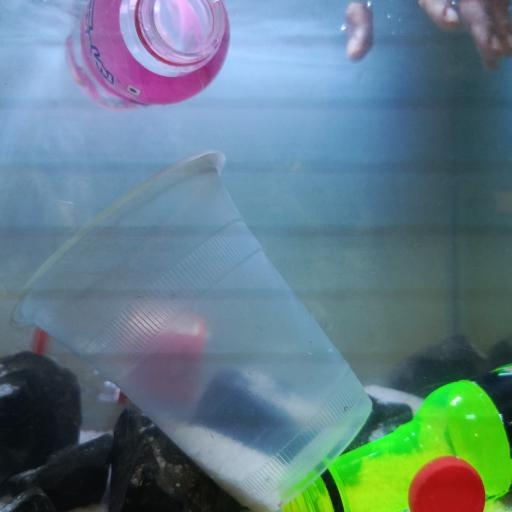bottle_cap: (408, 454, 486, 512)
plastic_bottle: (291, 362, 512, 512), (65, 0, 233, 110)
plastic_cup: (13, 148, 374, 512)
